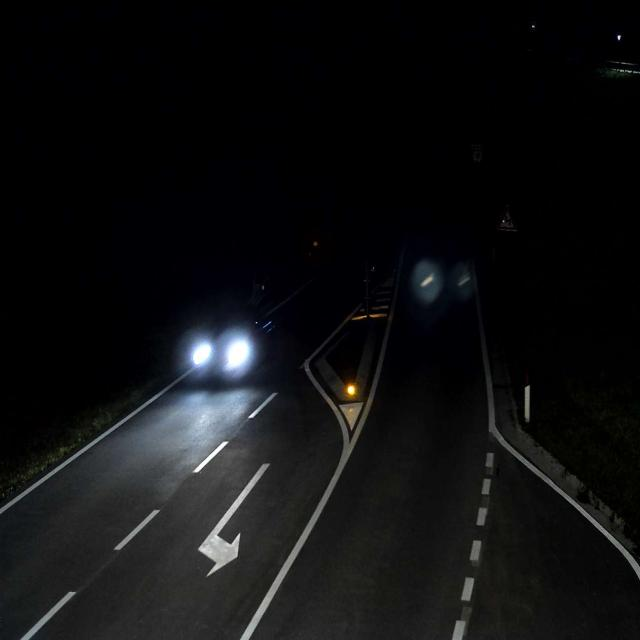car: (187, 311, 277, 385)
